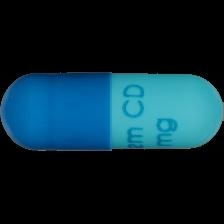55154-4250: (0, 0, 224, 224)
